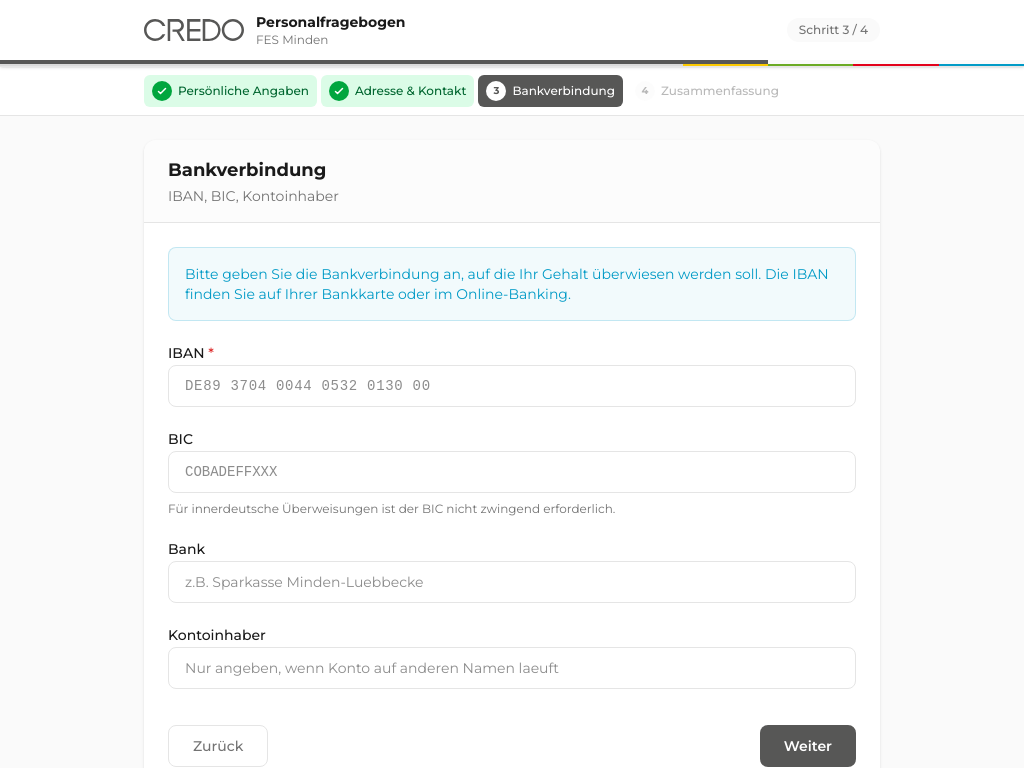
Schrittleiste: kein stiller Verlust von Eingaben › erkennt auch eine gesetzte Auswahl, nicht nur getippten Text
Click the button "Persönliche Angaben": click(230, 91) top-left (144, 75), bottom-right (317, 107)
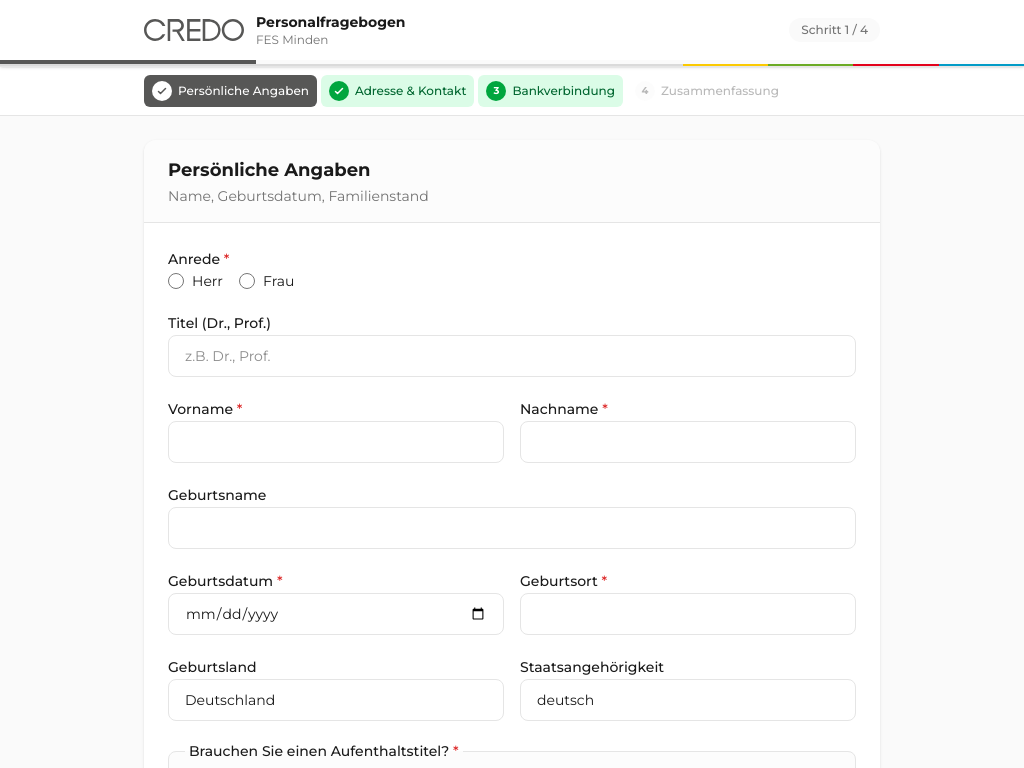
Expected: the text "Persönliche Angaben" is shown, top-left (178, 83), bottom-right (309, 99)
Now the number of radio buttons named "salutation" is 2
Click the radio button named "salutation": click(247, 281) top-left (239, 273), bottom-right (255, 289)
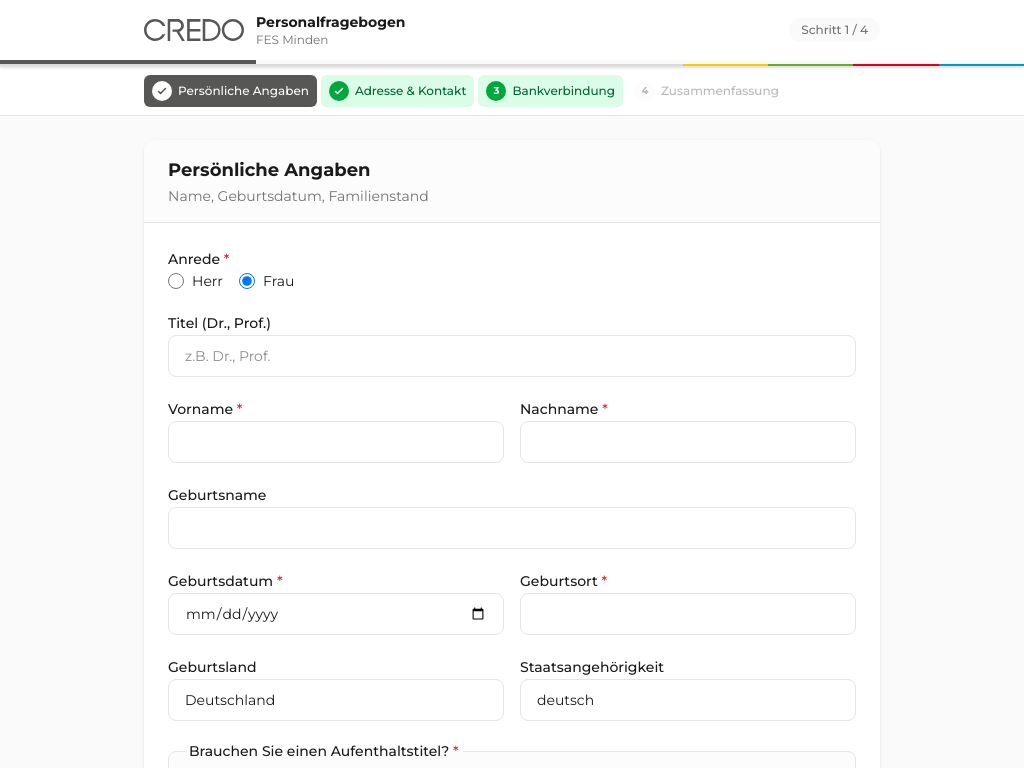
Click the button titled "Schritt 3: Bankverbindung": click(551, 91) top-left (478, 75), bottom-right (623, 107)
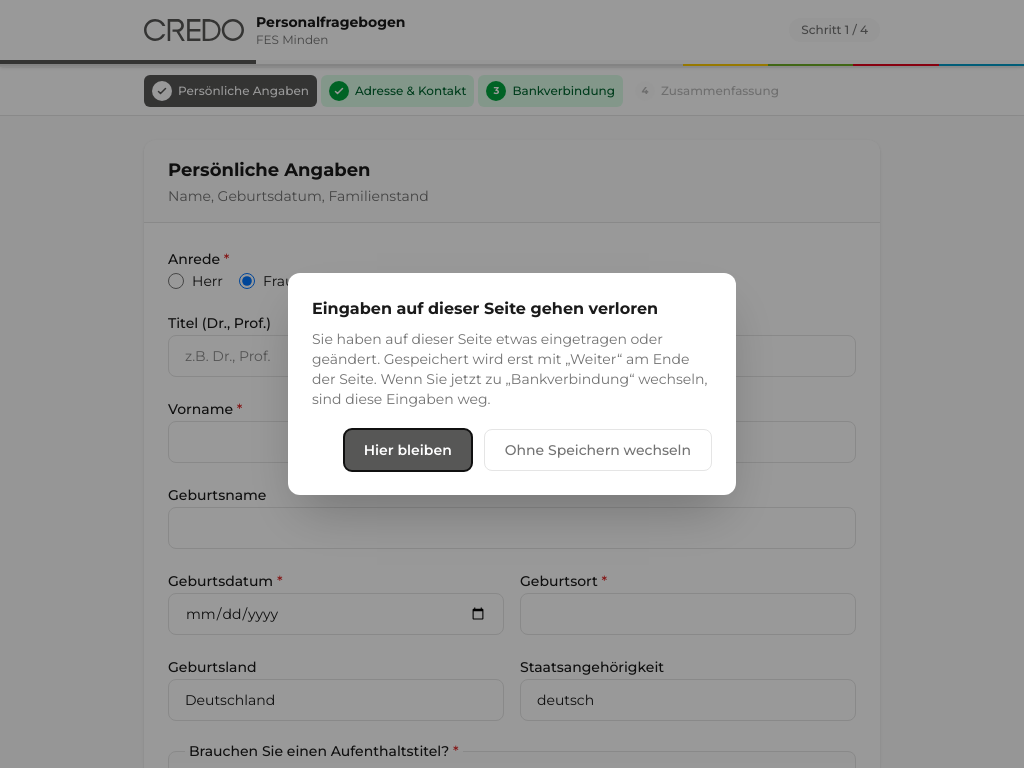
Expected: the text "Persönliche Angaben" is shown, top-left (178, 83), bottom-right (309, 99)
Now the dialog is shown
